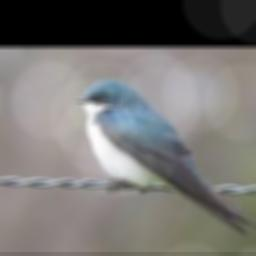Swallow: (73, 80, 256, 234)
